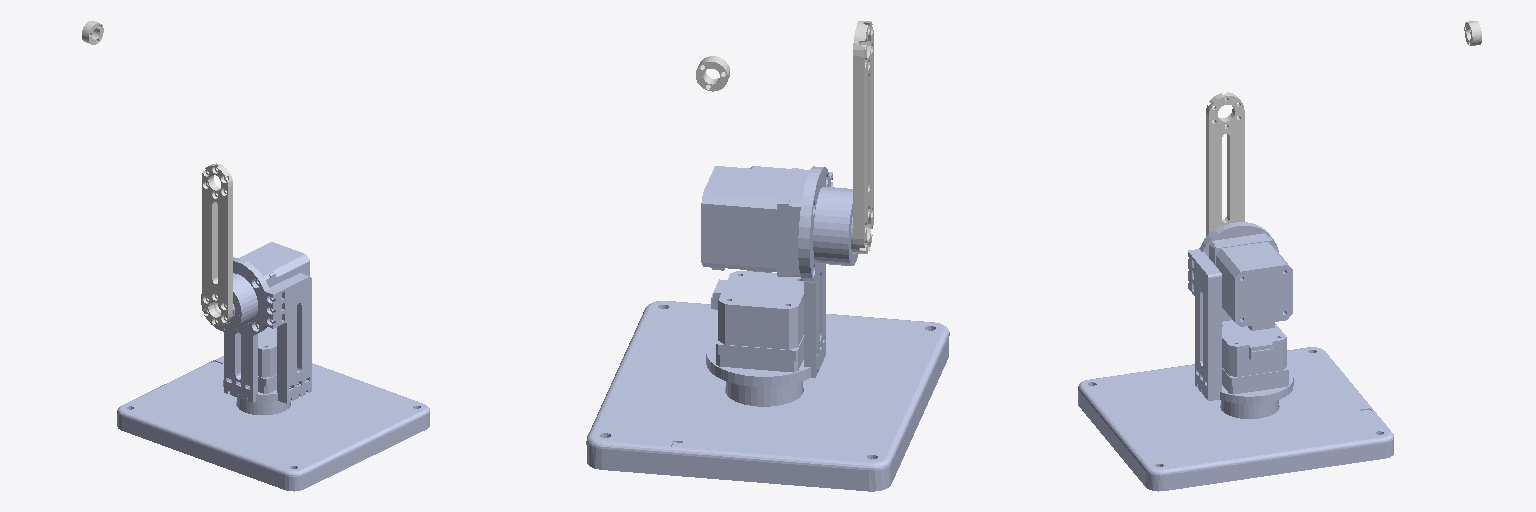
robot.urdf — jixiebi:
<?xml version="1.0" encoding="utf-8"?>
<!-- This URDF was automatically created by SolidWorks to URDF Exporter! Originally created by Stephen Brawner (brawner@gmail.com) 
     Commit Version: 1.6.0-4-g7f85cfe  Build Version: 1.6.7995.38578
     For more information, please see http://wiki.ros.org/sw_urdf_exporter -->
<robot
  name="jixiebi">
  <link
    name="base_link">
    <inertial>
      <origin
        xyz="0.0634303829418545 -0.0711065090450506 -0.0538651002391742"
        rpy="0 0 0" />
      <mass
        value="0.420489890278231" />
      <inertia
        ixx="0.00111937167429758"
        ixy="-9.38187827214536E-08"
        ixz="-7.40384986980624E-05"
        iyy="0.00203670753313454"
        iyz="-2.96143597560607E-07"
        izz="0.000932898093382706" />
    </inertial>
    <visual>
      <origin
        xyz="0 0 0"
        rpy="0 0 0" />
      <geometry>
        <mesh
          filename="package://fangzhen/meshes/base_link.STL" />
      </geometry>
      <material
        name="">
        <color
          rgba="0.792156862745098 0.819607843137255 0.933333333333333 1" />
      </material>
    </visual>
    <collision>
      <origin
        xyz="0 0 0"
        rpy="0 0 0" />
      <geometry>
        <mesh
          filename="package://fangzhen/meshes/base_link.STL" />
      </geometry>
    </collision>
  </link>
  <link
    name="Empty_Link1">
    <inertial>
      <origin
        xyz="0.00347263010106362 -0.00311832979060158 0.00353054587175676"
        rpy="0 0 0" />
      <mass
        value="0.235675852897505" />
      <inertia
        ixx="6.08252945024111E-05"
        ixy="3.58814196098952E-07"
        ixz="-9.36672130582366E-07"
        iyy="7.49814768079315E-05"
        iyz="2.0173405836646E-08"
        izz="8.13328023146016E-05" />
    </inertial>
    <visual>
      <origin
        xyz="0 0 0"
        rpy="0 0 0" />
      <geometry>
        <mesh
          filename="package://fangzhen/meshes/Empty_Link1.STL" />
      </geometry>
      <material
        name="">
        <color
          rgba="0.792156862745098 0.819607843137255 0.933333333333333 1" />
      </material>
    </visual>
    <collision>
      <origin
        xyz="0 0 0"
        rpy="0 0 0" />
      <geometry>
        <mesh
          filename="package://fangzhen/meshes/Empty_Link1.STL" />
      </geometry>
    </collision>
  </link>
  <joint
    name="joint1"
    type="revolute">
    <origin
      xyz="0.060085 0.063479 0"
      rpy="0.33513 -1.5708 0" />
    <parent
      link="base_link" />
    <child
      link="Empty_Link1" />
    <axis
      xyz="-1 0 0" />
    <limit
      lower="-1.7"
      upper="1.7"
      effort="0"
      velocity="0" />
  </joint>
  <link
    name="Empty_Link2">
    <inertial>
      <origin
        xyz="0.0258796348069651 0.00828780497385037 0.0447390978439766"
        rpy="0 0 0" />
      <mass
        value="0.0192065756808143" />
      <inertia
        ixx="1.29090933181484E-05"
        ixy="1.78508917660652E-10"
        ixz="-6.73799122836867E-06"
        iyy="1.7918681489228E-05"
        iyz="4.36350920394305E-10"
        izz="5.13476322153778E-06" />
    </inertial>
    <visual>
      <origin
        xyz="0 0 0"
        rpy="0 0 0" />
      <geometry>
        <mesh
          filename="package://fangzhen/meshes/Empty_Link2.STL" />
      </geometry>
      <material
        name="">
        <color
          rgba="0.894117647058823 0.894117647058823 0.894117647058823 1" />
      </material>
    </visual>
    <collision>
      <origin
        xyz="0 0 0"
        rpy="0 0 0" />
      <geometry>
        <mesh
          filename="package://fangzhen/meshes/Empty_Link2.STL" />
      </geometry>
    </collision>
  </link>
  <joint
    name="joint2"
    type="revolute">
    <origin
      xyz="0.033039 0.00021948 0.04198"
      rpy="1.5708 0 1.0472" />
    <parent
      link="Empty_Link1" />
    <child
      link="Empty_Link2" />
    <axis
      xyz="0 -1 0" />
    <limit
      lower="-0.86"
      upper="0.33"
      effort="0"
      velocity="0" />
  </joint>
  <link
    name="Empty_Link3">
    <inertial>
      <origin
        xyz="0.0136070411021878 -0.0202549697295141 -0.00656471084495087"
        rpy="0 0 0" />
      <mass
        value="0.199282304525679" />
      <inertia
        ixx="5.04067863351373E-05"
        ixy="-4.51113907663924E-08"
        ixz="-8.05684494390357E-09"
        iyy="4.6242760408119E-05"
        iyz="1.63971722015123E-09"
        izz="4.54802538096738E-05" />
    </inertial>
    <visual>
      <origin
        xyz="0 0 0"
        rpy="0 0 0" />
      <geometry>
        <mesh
          filename="package://fangzhen/meshes/Empty_Link3.STL" />
      </geometry>
      <material
        name="">
        <color
          rgba="0.792156862745098 0.819607843137255 0.933333333333333 1" />
      </material>
    </visual>
    <collision>
      <origin
        xyz="0 0 0"
        rpy="0 0 0" />
      <geometry>
        <mesh
          filename="package://fangzhen/meshes/Empty_Link3.STL" />
      </geometry>
    </collision>
  </link>
  <joint
    name="joint3"
    type="revolute">
    <origin
      xyz="0.052 0 0.090067"
      rpy="0 0 0" />
    <parent
      link="Empty_Link2" />
    <child
      link="Empty_Link3" />
    <axis
      xyz="0 -1 0" />
    <limit
      lower="-1.14"
      upper="0.94"
      effort="0"
      velocity="0" />
  </joint>
  <link
    name="Empty_Link4">
    <inertial>
      <origin
        xyz="-0.00189748804956855 0.046660692495981 -0.00289519147949302"
        rpy="0 0 0" />
      <mass
        value="0.0601428230591766" />
      <inertia
        ixx="9.60361864172028E-06"
        ixy="4.19797993231364E-08"
        ixz="9.18546333694597E-07"
        iyy="8.59750510372968E-06"
        iyz="-1.99948792208276E-08"
        izz="1.07868892952273E-05" />
    </inertial>
    <visual>
      <origin
        xyz="0 0 0"
        rpy="0 0 0" />
      <geometry>
        <mesh
          filename="package://fangzhen/meshes/Empty_Link4.STL" />
      </geometry>
      <material
        name="">
        <color
          rgba="0.894117647058823 0.894117647058823 0.894117647058823 1" />
      </material>
    </visual>
    <collision>
      <origin
        xyz="0 0 0"
        rpy="0 0 0" />
      <geometry>
        <mesh
          filename="package://fangzhen/meshes/Empty_Link4.STL" />
      </geometry>
    </collision>
  </link>
  <joint
    name="joint4"
    type="revolute">
    <origin
      xyz="0.031346 -0.04205 0.045346"
      rpy="-2.0944 0 -1.5708" />
    <parent
      link="Empty_Link3" />
    <child
      link="Empty_Link4" />
    <axis
      xyz="0 0 -1" />
    <limit
      lower="-1.7"
      upper="1.26"
      effort="0"
      velocity="0" />
  </joint>
  <link
    name="Empty_Link5">
    <inertial>
      <origin
        xyz="-0.0412279836312395 -0.0159188024281356 0.0517503207664082"
        rpy="0 0 0" />
      <mass
        value="0.057435895842015" />
      <inertia
        ixx="1.09336029893626E-05"
        ixy="-1.35614264015078E-07"
        ixz="1.10596222131239E-06"
        iyy="1.17195124438376E-05"
        iyz="2.44615899500889E-07"
        izz="1.04258288078326E-05" />
    </inertial>
    <visual>
      <origin
        xyz="0 0 0"
        rpy="0 0 0" />
      <geometry>
        <mesh
          filename="package://fangzhen/meshes/Empty_Link5.STL" />
      </geometry>
      <material
        name="">
        <color
          rgba="0.894117647058823 0.894117647058823 0.894117647058823 1" />
      </material>
    </visual>
    <collision>
      <origin
        xyz="0 0 0"
        rpy="0 0 0" />
      <geometry>
        <mesh
          filename="package://fangzhen/meshes/Empty_Link5.STL" />
      </geometry>
    </collision>
  </link>
  <joint
    name="joint5"
    type="revolute">
    <origin
      xyz="-0.025 0 0.058809"
      rpy="0 0.67271 1.5708" />
    <parent
      link="Empty_Link4" />
    <child
      link="Empty_Link5" />
    <axis
      xyz="0 -1 0" />
    <limit
      lower="-2.2"
      upper="0.94"
      effort="0"
      velocity="0" />
  </joint>
  <link
    name="Empty_Link6">
    <inertial>
      <origin
        xyz="6.93889390390723E-16 0.00350000000000167 1.59594559789866E-15"
        rpy="0 0 0" />
      <mass
        value="0.000985038522551446" />
      <inertia
        ixx="2.70230590891992E-08"
        ixy="8.29765551967256E-24"
        ixz="-1.66470098276297E-23"
        iyy="4.60016369108949E-08"
        iyz="1.57164316385075E-23"
        izz="2.70230590891992E-08" />
    </inertial>
    <visual>
      <origin
        xyz="0 0 0"
        rpy="0 0 0" />
      <geometry>
        <mesh
          filename="package://fangzhen/meshes/Empty_Link6.STL" />
      </geometry>
      <material
        name="">
        <color
          rgba="0.894117647058823 0.894117647058823 0.894117647058823 1" />
      </material>
    </visual>
    <collision>
      <origin
        xyz="0 0 0"
        rpy="0 0 0" />
      <geometry>
        <mesh
          filename="package://fangzhen/meshes/Empty_Link6.STL" />
      </geometry>
    </collision>
  </link>
  <joint
    name="joint6"
    type="revolute">
    <origin
      xyz="-0.060354 -0.020689 0.075758"
      rpy="2.0816 0.45877 -2.2395" />
    <parent
      link="Empty_Link5" />
    <child
      link="Empty_Link6" />
    <axis
      xyz="0 -1 0" />
    <limit
      lower="-3.14"
      upper="3.14"
      effort="0"
      velocity="0" />
  </joint>

  <ros2_control name="MyArmRealHardware" type="system">
    <hardware>
      <plugin>my_arm_hardware/SocketCanArmInterface</plugin>
    </hardware>

    <joint name="joint1">
      <command_interface name="position"/>
      <state_interface name="position"/>
    </joint>
    <joint name="joint2">
      <command_interface name="position"/>
      <state_interface name="position"/>
    </joint>
    <joint name="joint3">
      <command_interface name="position"/>
      <state_interface name="position"/>
    </joint>
    <joint name="joint4">
      <command_interface name="position"/>
      <state_interface name="position"/>
    </joint>
    <joint name="joint5">
      <command_interface name="position"/>
      <state_interface name="position"/>
    </joint>
    <joint name="joint6">
      <command_interface name="position"/>
      <state_interface name="position"/>
    </joint>
  </ros2_control>

</robot>

--- What the picture shows (computed from the rendered views, not written in the file) ---
The picture shows the robot from 3 angles, left to right: view 1: azimuth 30°, elevation 25°; view 2: azimuth 150°, elevation 25°; view 3: azimuth 270°, elevation 25°; orthographic projection.
Robot: jixiebi — 7 links, 6 joints (6 revolute); root link base_link; default pose: all joints at 0.
Visible links, largest first — view 1: base_link, Empty_Link1, Empty_Link2; view 2: base_link, Empty_Link1, Empty_Link2, Empty_Link6; view 3: base_link, Empty_Link1, Empty_Link2.
Boxes of the visible links, box(x1,y1,x2,y2) form: base_link: box(117, 356, 429, 491); Empty_Link1: box(201, 242, 311, 414); Empty_Link2: box(202, 163, 232, 325); base_link: box(586, 301, 949, 491); Empty_Link1: box(701, 166, 858, 406); Empty_Link2: box(853, 21, 873, 253); Empty_Link6: box(696, 56, 729, 91); base_link: box(1078, 347, 1393, 491); Empty_Link1: box(1188, 222, 1293, 418); Empty_Link2: box(1206, 92, 1244, 235).
Bounding box of the posed robot: 0.2048 × 0.2775 × 0.279 m (x, y, z).
Meshes: 7 distinct files referenced, 4 mesh visuals loaded (4 binary STL); not drawn: 3 (reference not matched to a file when rendering).
